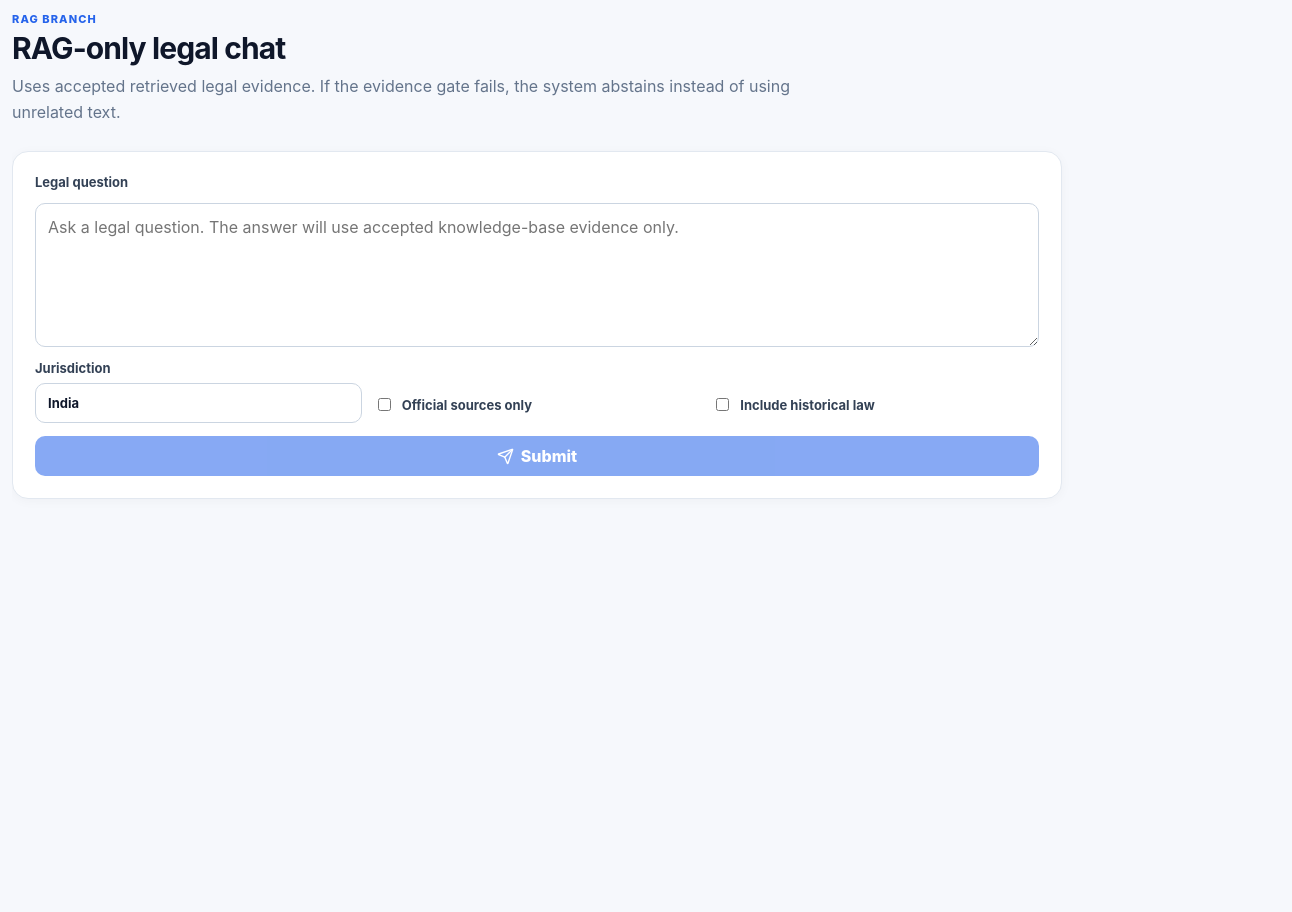
Test: RAG keeps filters and evidence panel
Replace the text in the text box with "rag question" at (537, 275), box [35, 203, 1039, 347]
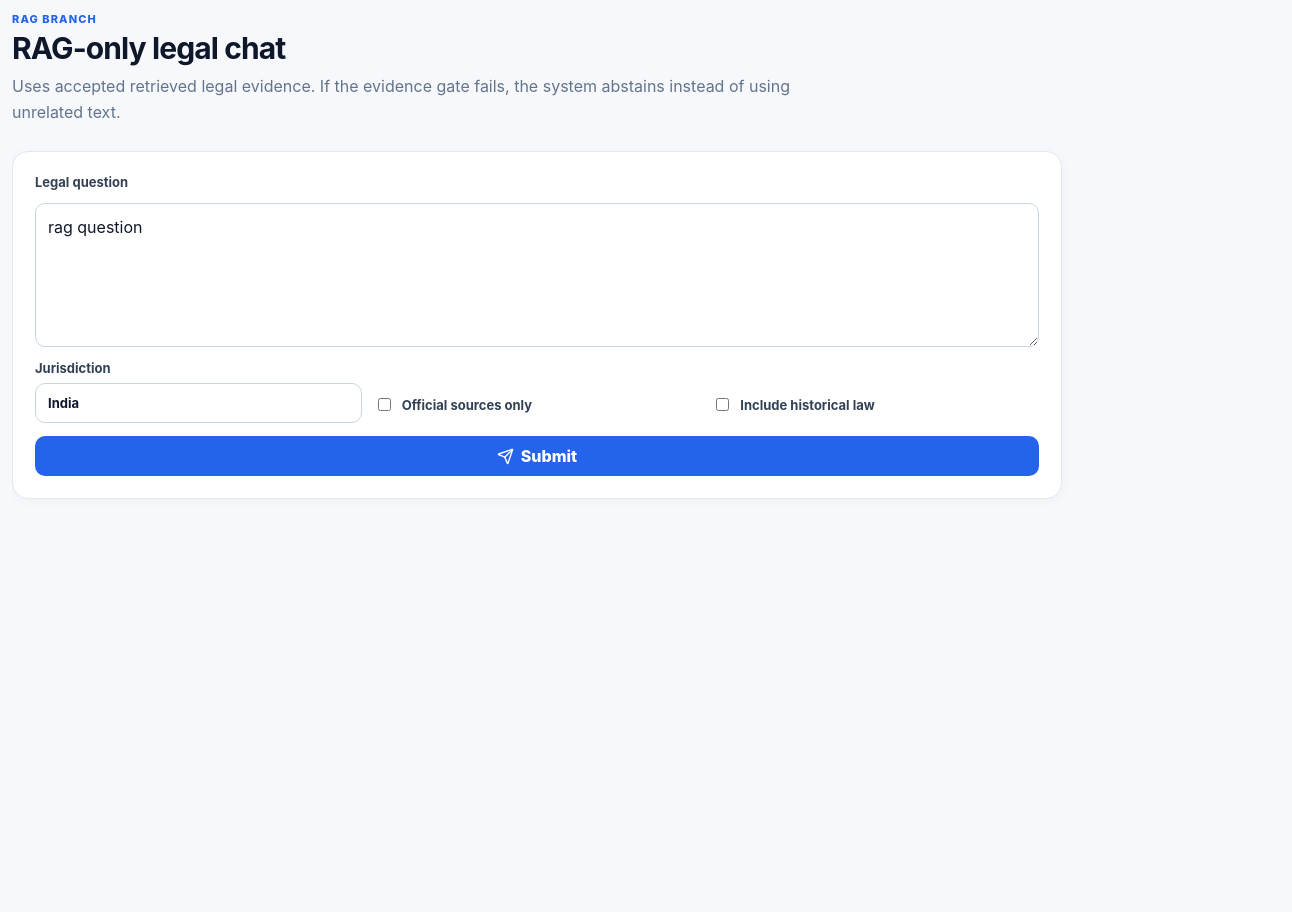
Click the checkbox labelled "Official sources only" at (384, 405), box [378, 398, 391, 411]
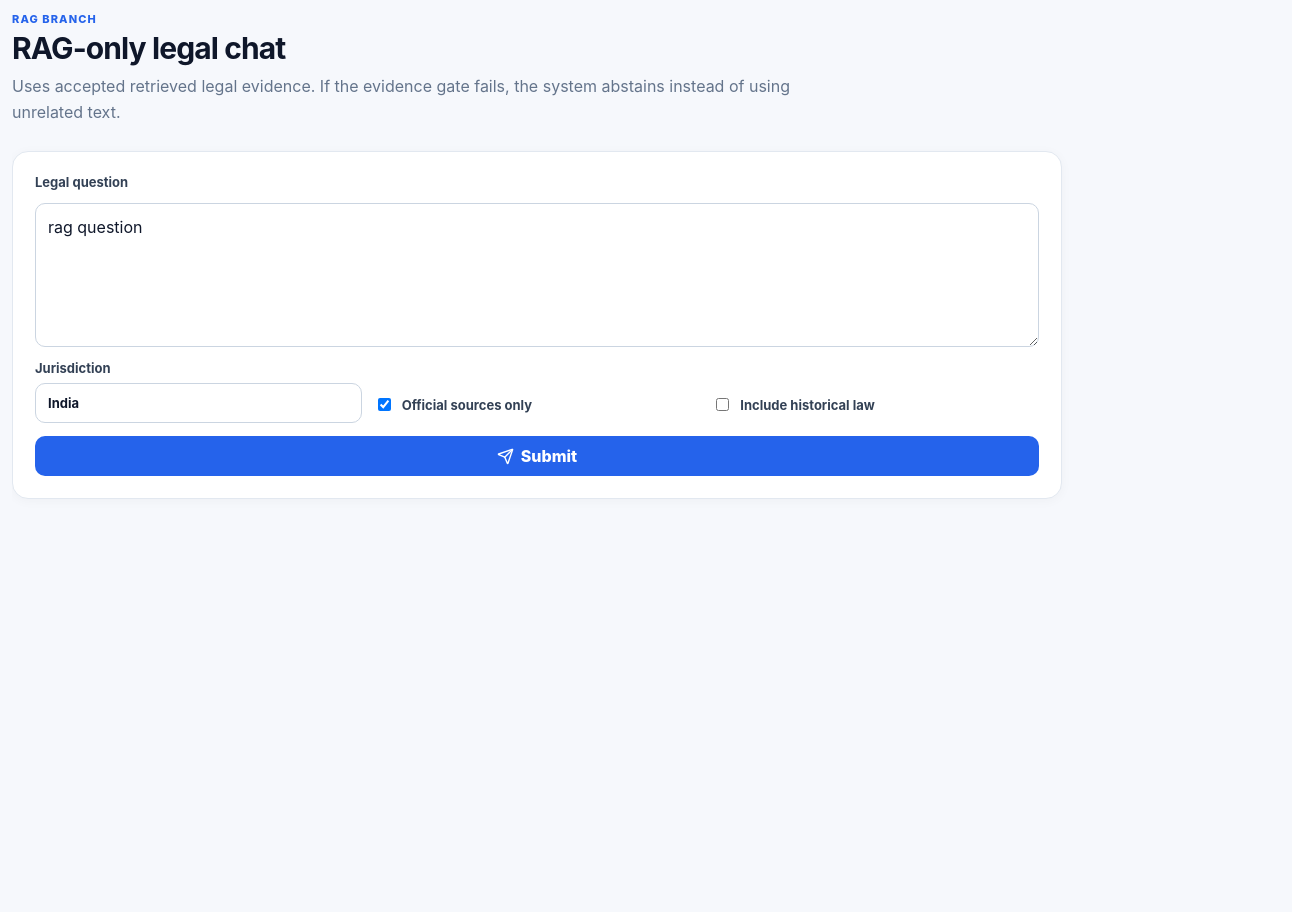
Submit the form "Submit", box [35, 174, 1039, 476]
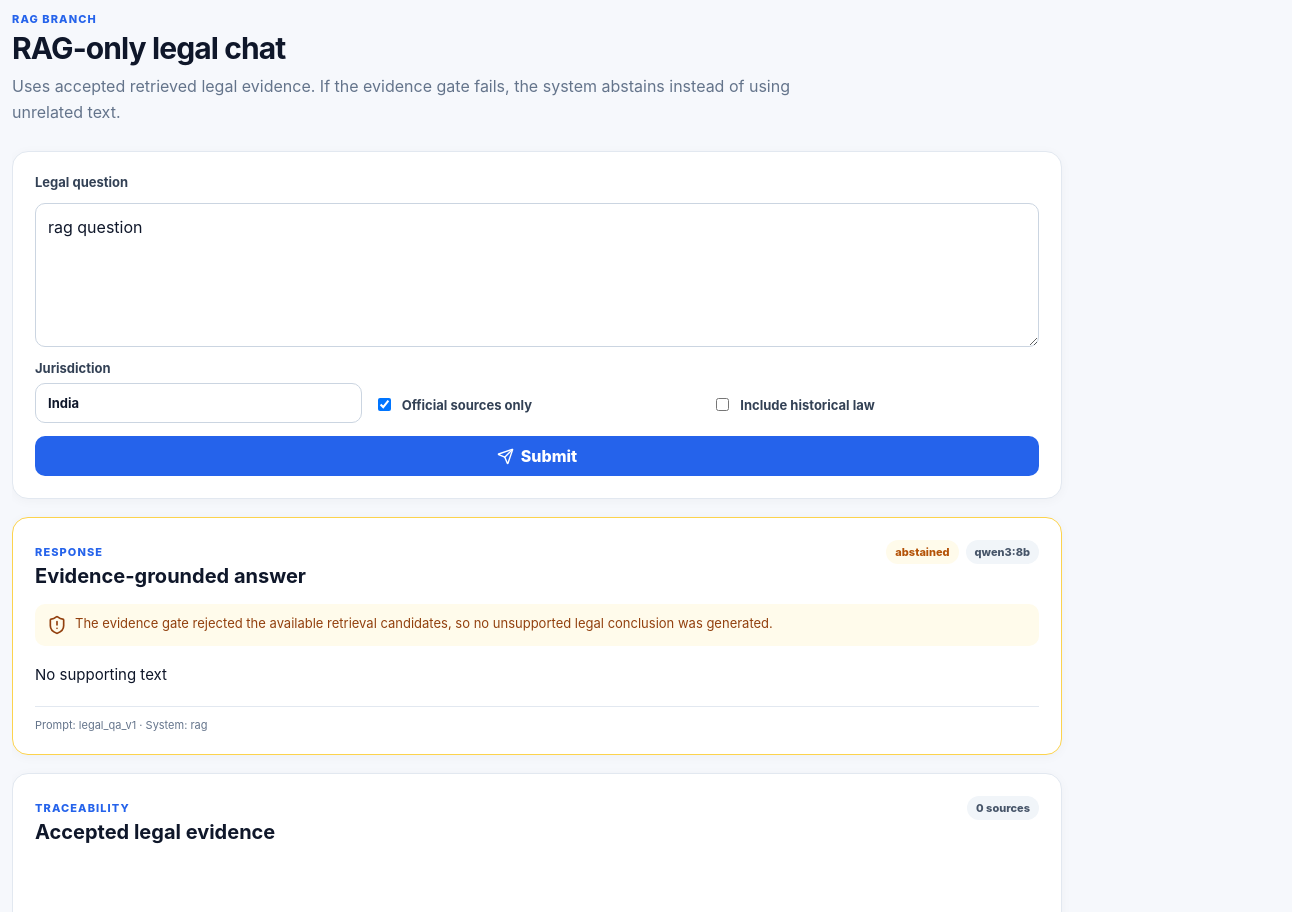
Expected: the text "No supporting text" is shown, [35, 665, 167, 684]
Expected: the heading "Accepted legal evidence" is shown, [35, 820, 275, 844]
Expected: the text "abstained" is shown, [886, 540, 959, 564]
